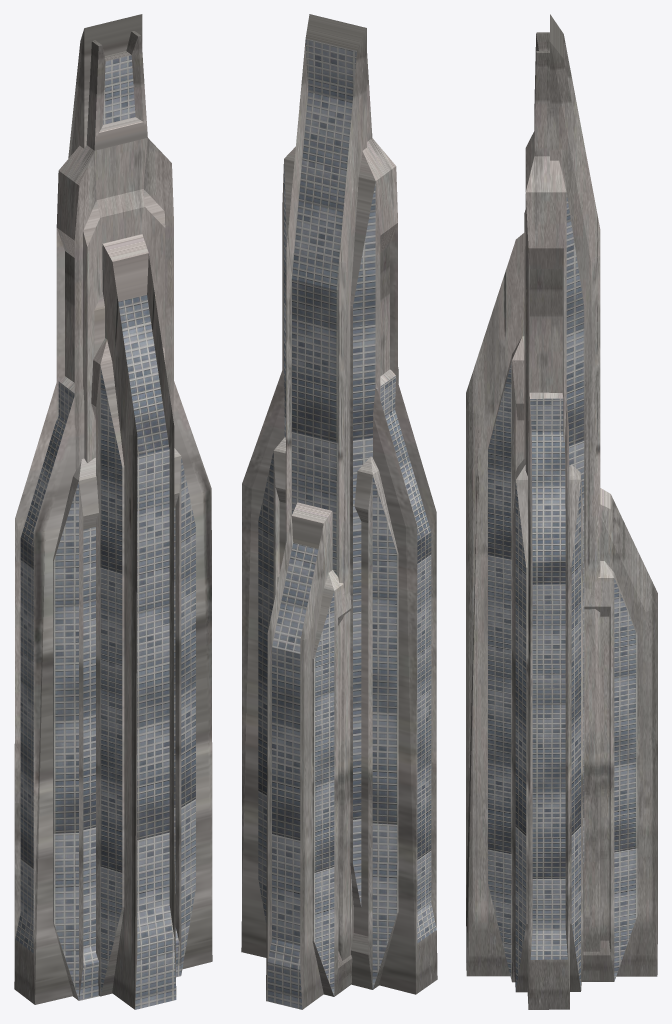
The model's file is Building01.FBX.
3 renders of one model, left to right at view 1: azimuth 30°, elevation 25°; view 2: azimuth 150°, elevation 25°; view 3: azimuth 270°, elevation 25°, orthographic.
Visible parts, largest first — view 1: polySurface1851; view 2: polySurface1851; view 3: polySurface1851.
Boxes of the visible parts, box(x1,y1,x2,y2) form: polySurface1851: box(14, 14, 212, 1009); polySurface1851: box(241, 14, 437, 1009); polySurface1851: box(466, 14, 657, 1009).
Bounding box in the file's own units: 229 × 1174 × 217.
2 materials, 2 textured.
